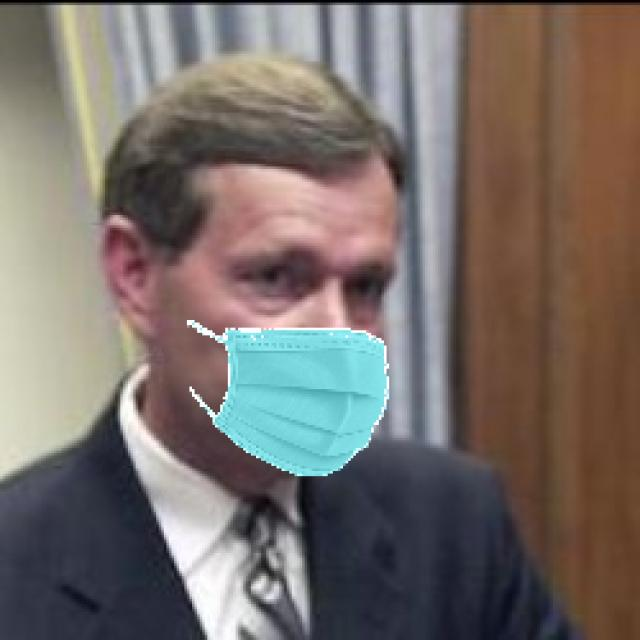mask: (176, 309, 404, 519)
